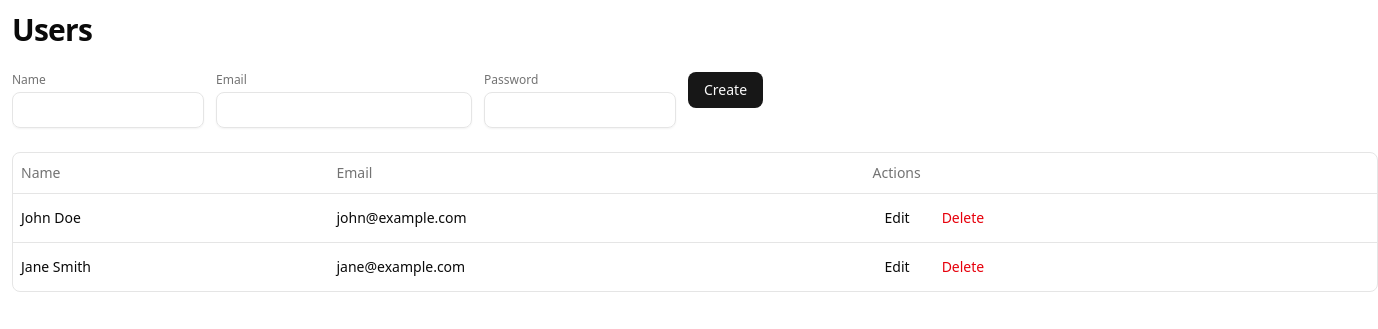
Test: UsersPage › shows validation errors for empty fields including password
The width and height of the screenshot is (1378, 329).
Expected: the text "John Doe" is shown, [13, 193, 328, 242]
Click the button "Create". click: (726, 90)
box: [688, 72, 763, 108]
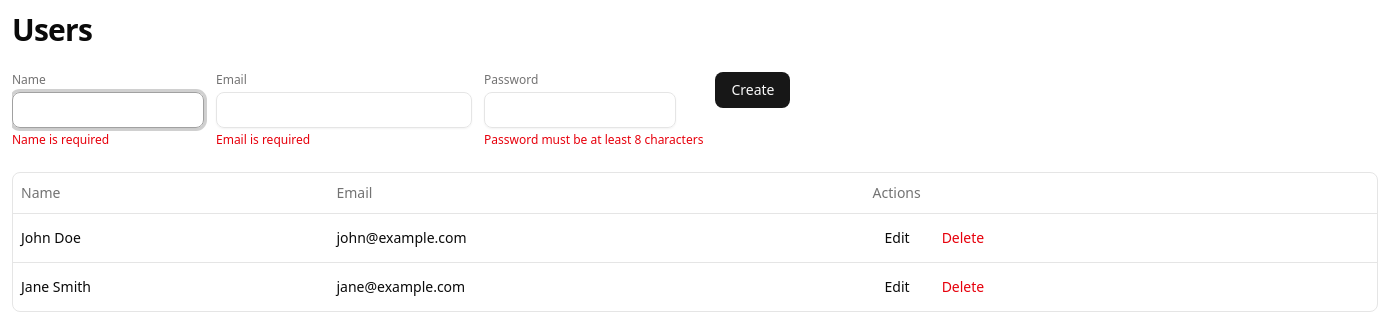
Now the text "Name is required" is shown, box [12, 131, 109, 148]
Now the text "Email is required" is shown, box [216, 131, 310, 148]
Now the text "Password must be at least 8 characters" is shown, box [484, 132, 703, 148]
